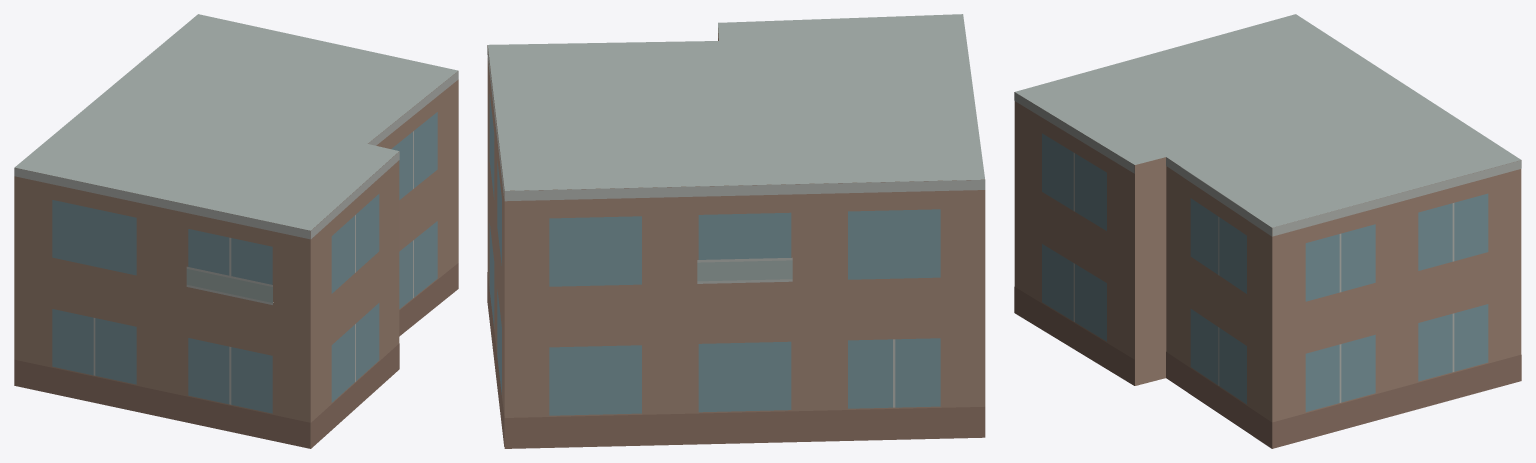
The model's file is survey-upis-32675733.glb.
3 renders of one model, left to right at view 1: azimuth 30°, elevation 25°; view 2: azimuth 150°, elevation 25°; view 3: azimuth 270°, elevation 25°, orthographic. The views are drawn at different scales.
Parts seen in each view (by area): view 1: survey-upis-32675733.tmp; view 2: survey-upis-32675733.tmp; view 3: survey-upis-32675733.tmp.
Part boxes in pixels (x1,y1,x2,y2): survey-upis-32675733.tmp: (14, 14, 458, 448); survey-upis-32675733.tmp: (487, 14, 985, 448); survey-upis-32675733.tmp: (1014, 14, 1521, 448).
Bounding box in the file's own units: 12.66 × 6.1 × 12.69.
